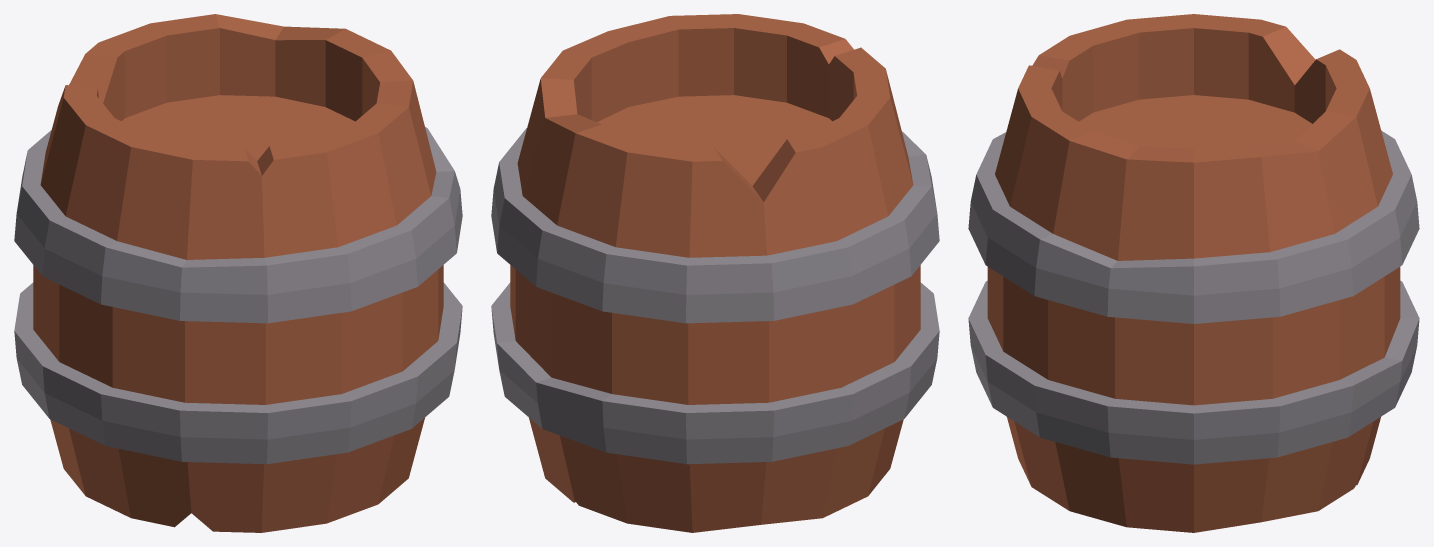
The model's file is barrel.fbx.
3 renders of one model, left to right at view 1: azimuth 30°, elevation 25°; view 2: azimuth 150°, elevation 25°; view 3: azimuth 270°, elevation 25°, orthographic.
Parts seen in each view (by area): view 1: Cylinder; view 2: Cylinder; view 3: Cylinder.
Part boxes in pixels (<box>): Cylinder: <box>14,14,462,532</box>; Cylinder: <box>491,14,939,532</box>; Cylinder: <box>968,14,1419,532</box>.
Size of the model in its own units: 186 by 169 by 186.
